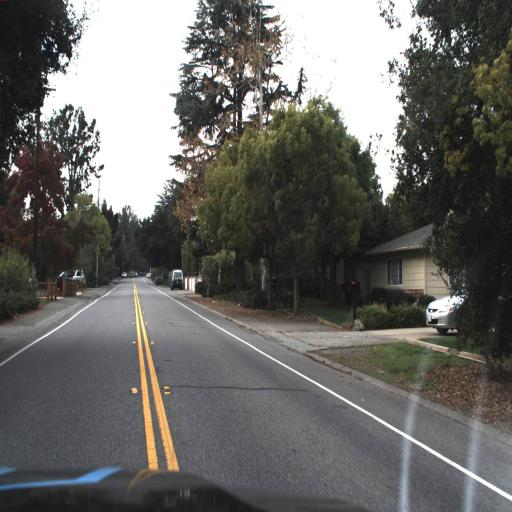car: (423, 282, 473, 334), (53, 258, 98, 294), (170, 266, 185, 291)
